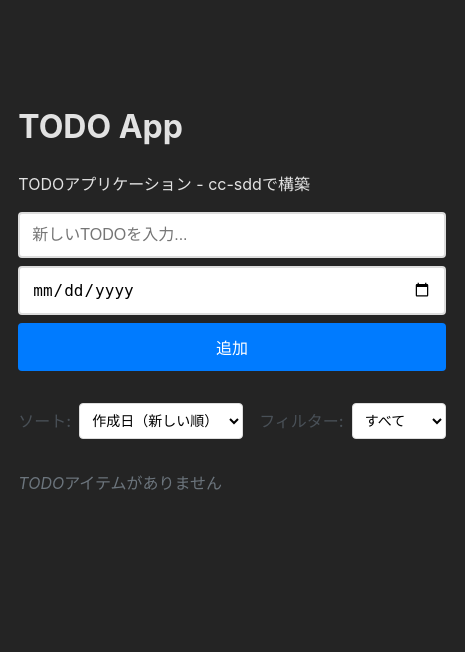
Test case: App - E2E Integration Tests › 連続してアイテムを作成できる
Type "アイテム1" into the field with placeholder "新しいTODOを入力..." at (232, 235), box [18, 212, 446, 258]
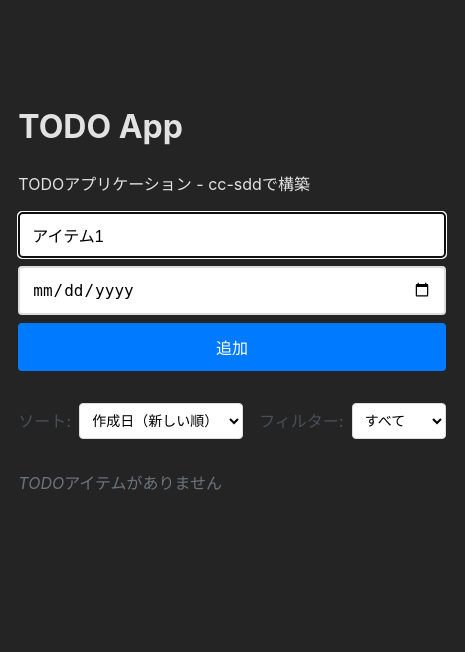
Click the button "追加" at (232, 347), box [18, 323, 446, 371]
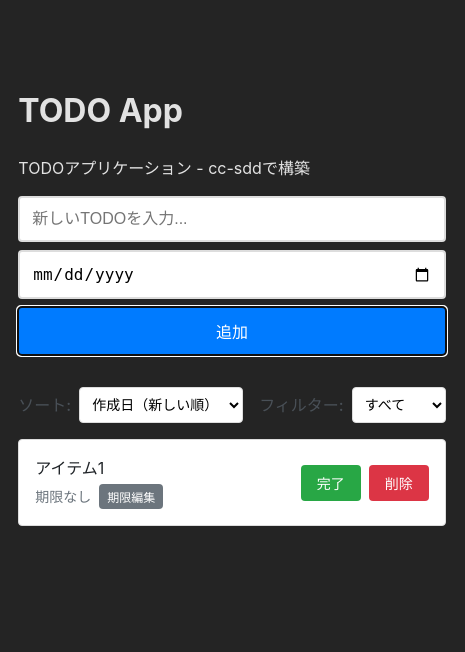
Now the text "アイテム1" is shown, box [35, 458, 104, 478]
Now the field with placeholder "新しいTODOを入力..." is empty
Type "アイテム2" into the field with placeholder "新しいTODOを入力..." at (232, 219), box [18, 196, 446, 242]
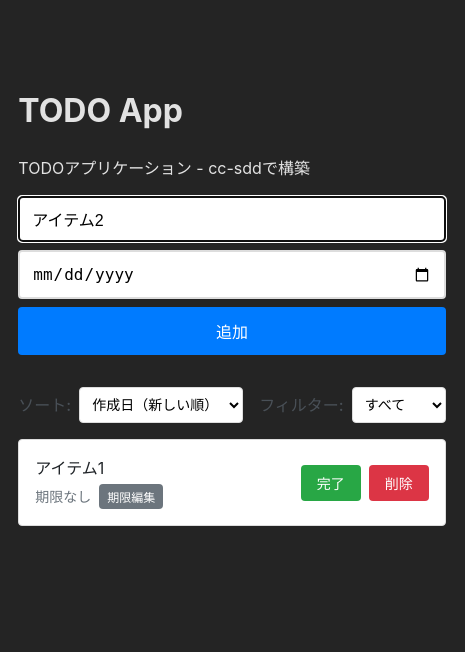
Click the button "追加" at (232, 331), box [18, 307, 446, 355]
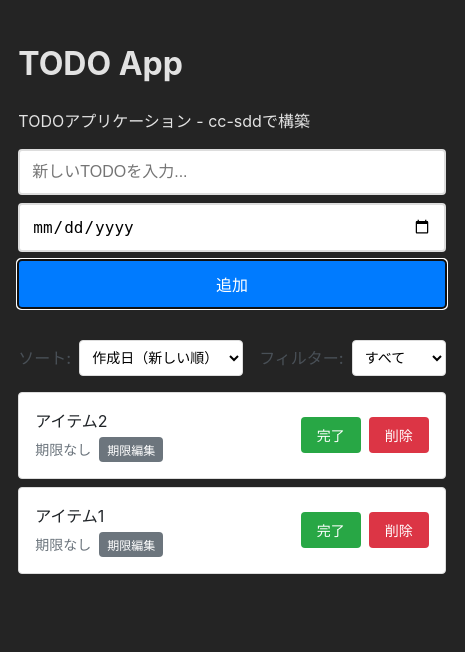
Now the text "アイテム2" is shown, box [35, 411, 108, 431]
Now the field with placeholder "新しいTODOを入力..." is empty
Type "アイテム3" into the field with placeholder "新しいTODOを入力..." at (232, 172), box [18, 149, 446, 195]
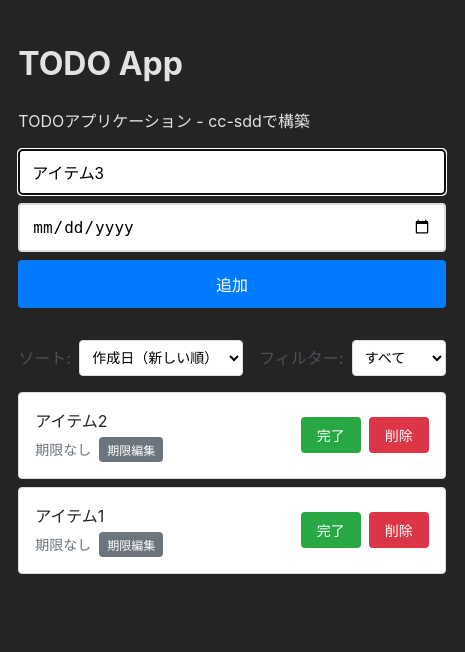
Click the button "追加" at (232, 284), box [18, 260, 446, 308]
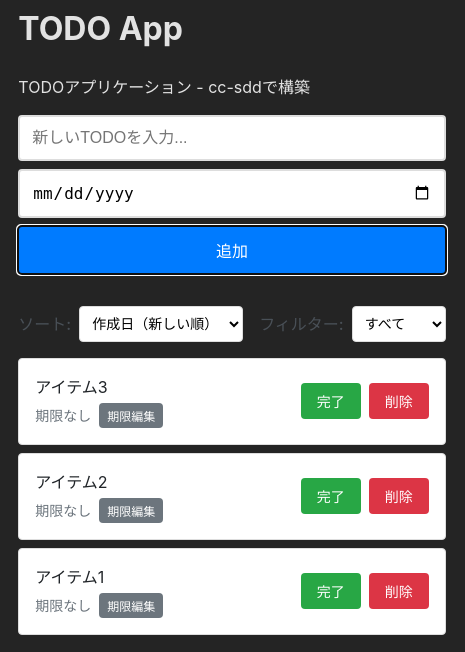
Now the text "アイテム1" is shown, box [35, 567, 104, 587]
Now the text "アイテム2" is shown, box [35, 472, 108, 492]
Now the text "アイテム3" is shown, box [35, 377, 108, 397]
